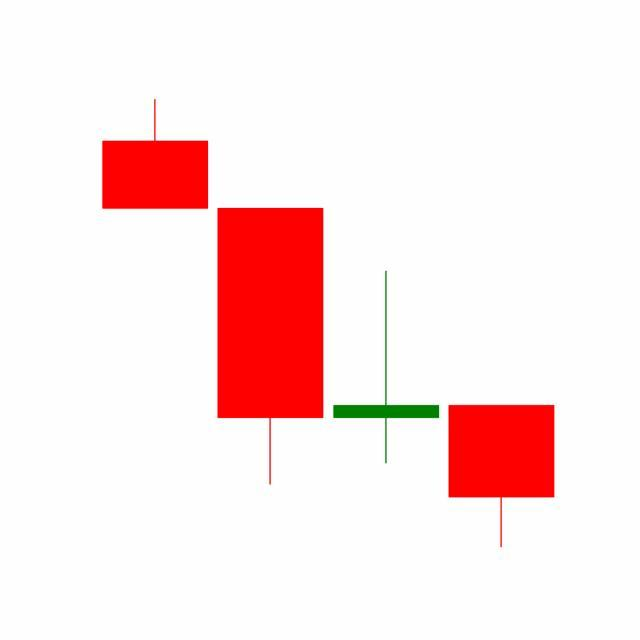Spinning Top: (329, 269, 445, 467)
